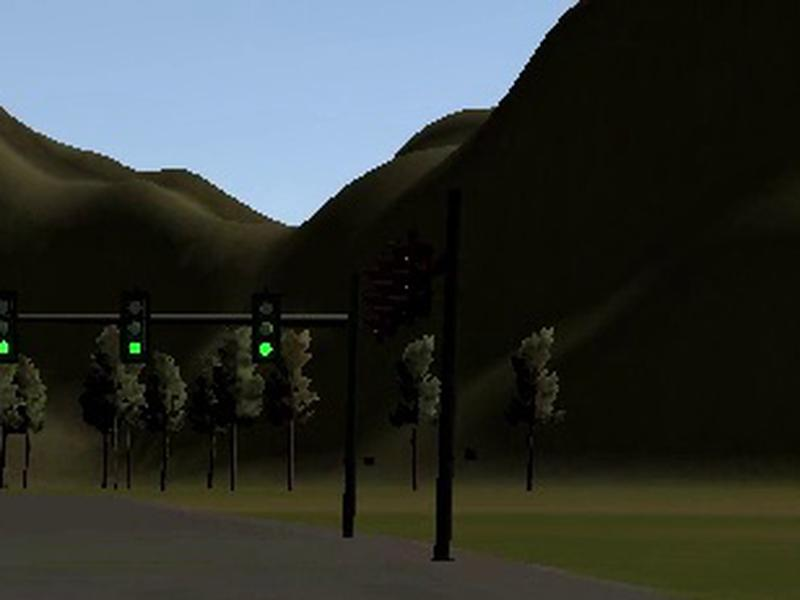Green: (120, 294, 152, 363), (251, 293, 281, 363), (1, 294, 19, 363)
